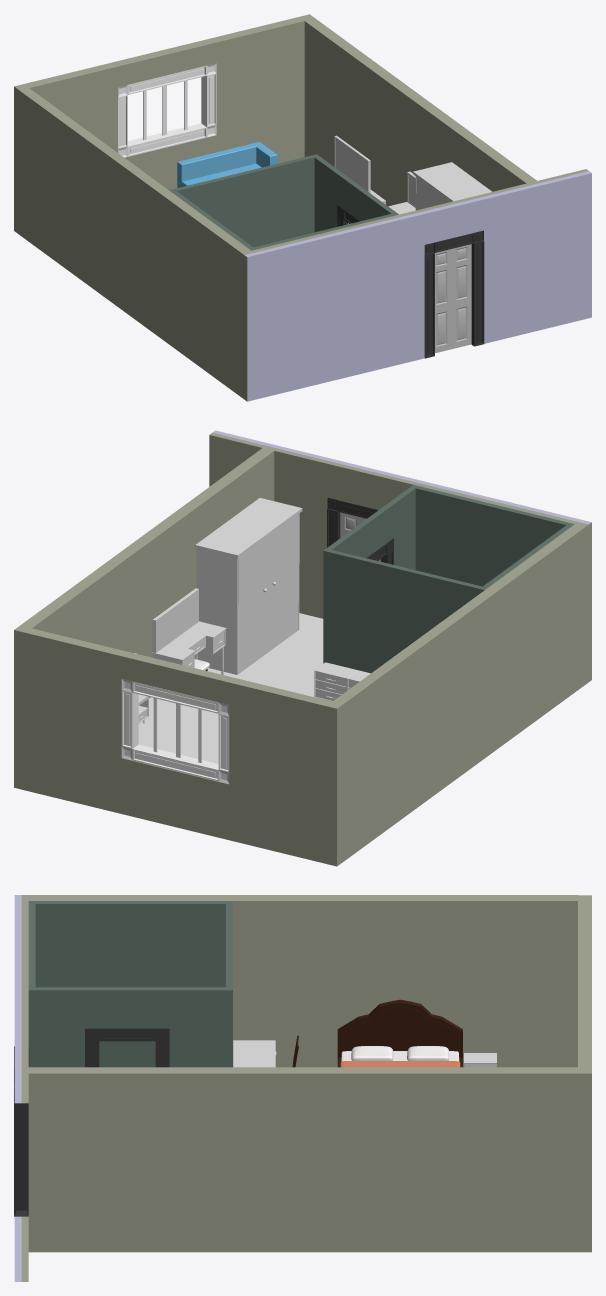
3 renders of one model, top to bottom at view 1: azimuth 30°, elevation 25°; view 2: azimuth 150°, elevation 25°; view 3: azimuth 270°, elevation 25°, orthographic. The views are drawn at different scales.
Parts seen in each view (by area): view 1: room_wall3.003, room_wall1.003, room_wall4.003, room_wall2.003, bath_wall2.003, hall_middlewall1.002, hall_wall4.001, room_doorframe1.003, room_window.003, Door612, room_doorframe2.003, room_doorframe3.003 (+6 smaller); view 2: room_wall4.003, room_wall3.003, room_wall2.003, bath_wall2.003, bath_wall.003, C_Structure.013, room_floor.003, room_window.003, room_doorframe1.003, C_L_Open.013, C_R_Open.013, bath_doorframe1.003 (+9 smaller); view 3: room_wall2.003, room_wall3.003, bath_wall3.003, bath_doorframe1.003, bigbed, room_wall4.003, bath_doorframe3.003, bath_doorframe2.003, room_doorframe2.003, room_wall1.003, WT_Structure.008, bath_wall2.003 (+4 smaller).
Boxes of the visible parts, x1,y1,x2,y2 form: room_wall3.003: (19,88,250,401); room_wall1.003: (242,214,404,401); room_wall4.003: (14,14,314,234); room_wall2.003: (304,18,536,206); bath_wall2.003: (169,154,319,247); hall_middlewall1.002: (538,169,591,329); hall_wall4.001: (498,181,543,338); room_doorframe1.003: (399,190,503,259); room_window.003: (118,63,216,157); Door612: (435,244,471,353); room_doorframe2.003: (471,236,503,346); room_doorframe3.003: (405,253,434,362); room_wall4.003: (14,625,343,866); room_wall3.003: (333,522,591,861); room_wall2.003: (20,448,274,698); bath_wall2.003: (323,548,487,673); bath_wall.003: (415,486,574,586); C_Structure.013: (195,498,302,674); room_floor.003: (138,613,323,763); room_window.003: (121,679,229,783); room_doorframe1.003: (305,454,419,518); C_L_Open.013: (238,536,268,673); C_R_Open.013: (268,515,298,651); bath_doorframe1.003: (326,485,418,560); room_wall2.003: (28,1067,577,1252); room_wall3.003: (28,895,577,1067); bath_wall3.003: (35,901,225,1067); bath_doorframe1.003: (28,987,225,1041); bigbed: (337,999,462,1067); room_wall4.003: (578,895,591,1252); bath_doorframe3.003: (28,1041,99,1067); bath_doorframe2.003: (155,1041,225,1067); room_doorframe2.003: (14,1089,28,1228); room_wall1.003: (14,895,28,990); WT_Structure.008: (233,1040,275,1067); bath_wall2.003: (226,901,232,1067).
Size of the model in its own units: 706 by 289 by 829.
